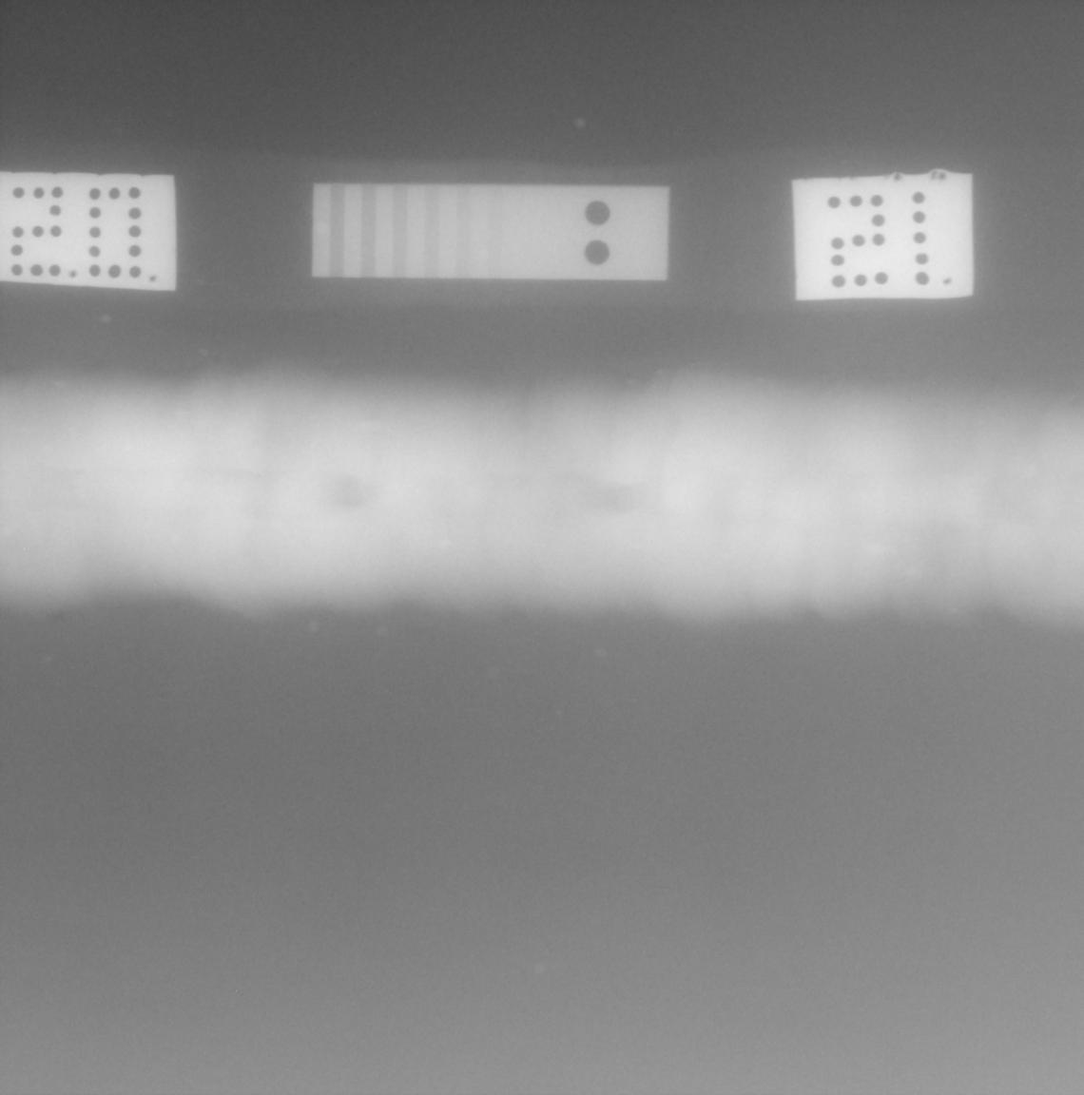Reference Standard 2: (311, 183, 670, 282)
Shrinkage Depression: (325, 476, 380, 510), (593, 485, 647, 515)
